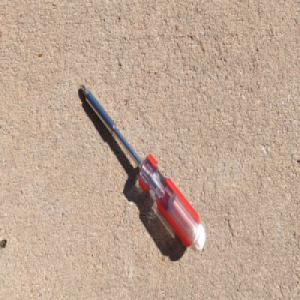Screwdriver: (76, 79, 207, 256)
